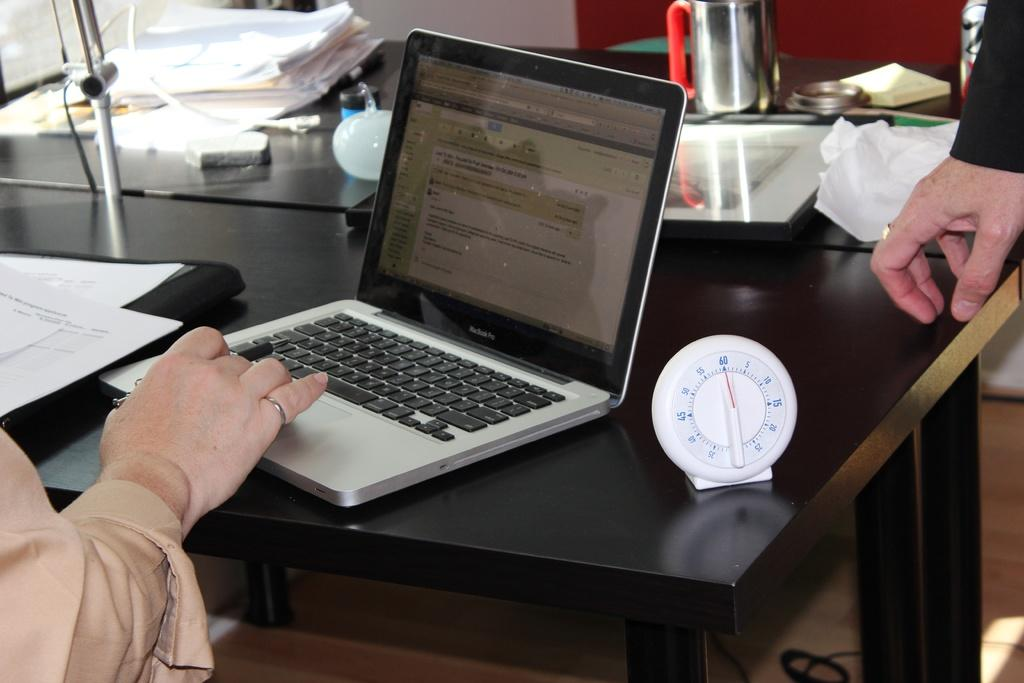Computer-keyboard: (228, 307, 569, 442)
